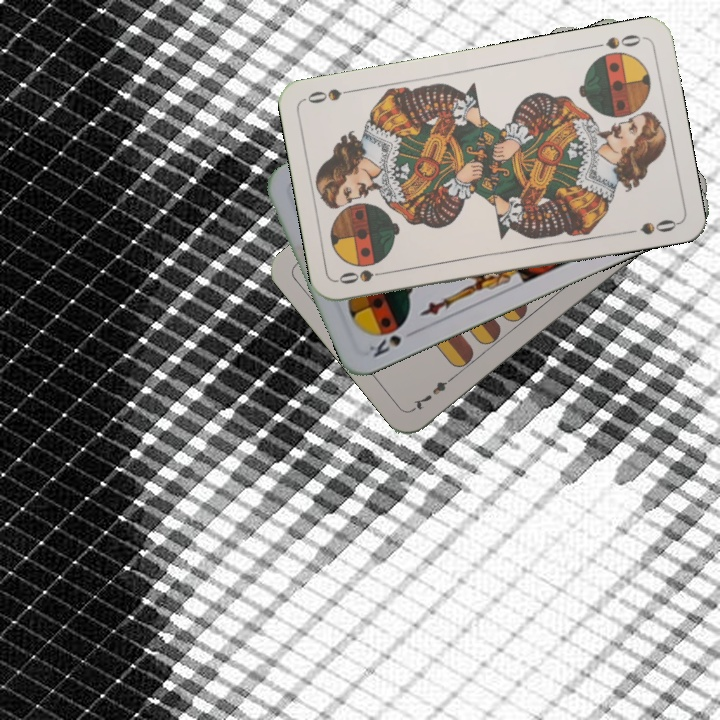E7: (409, 371, 458, 413)
SK: (364, 320, 410, 360)
SO: (335, 265, 394, 287), (588, 30, 646, 52)
